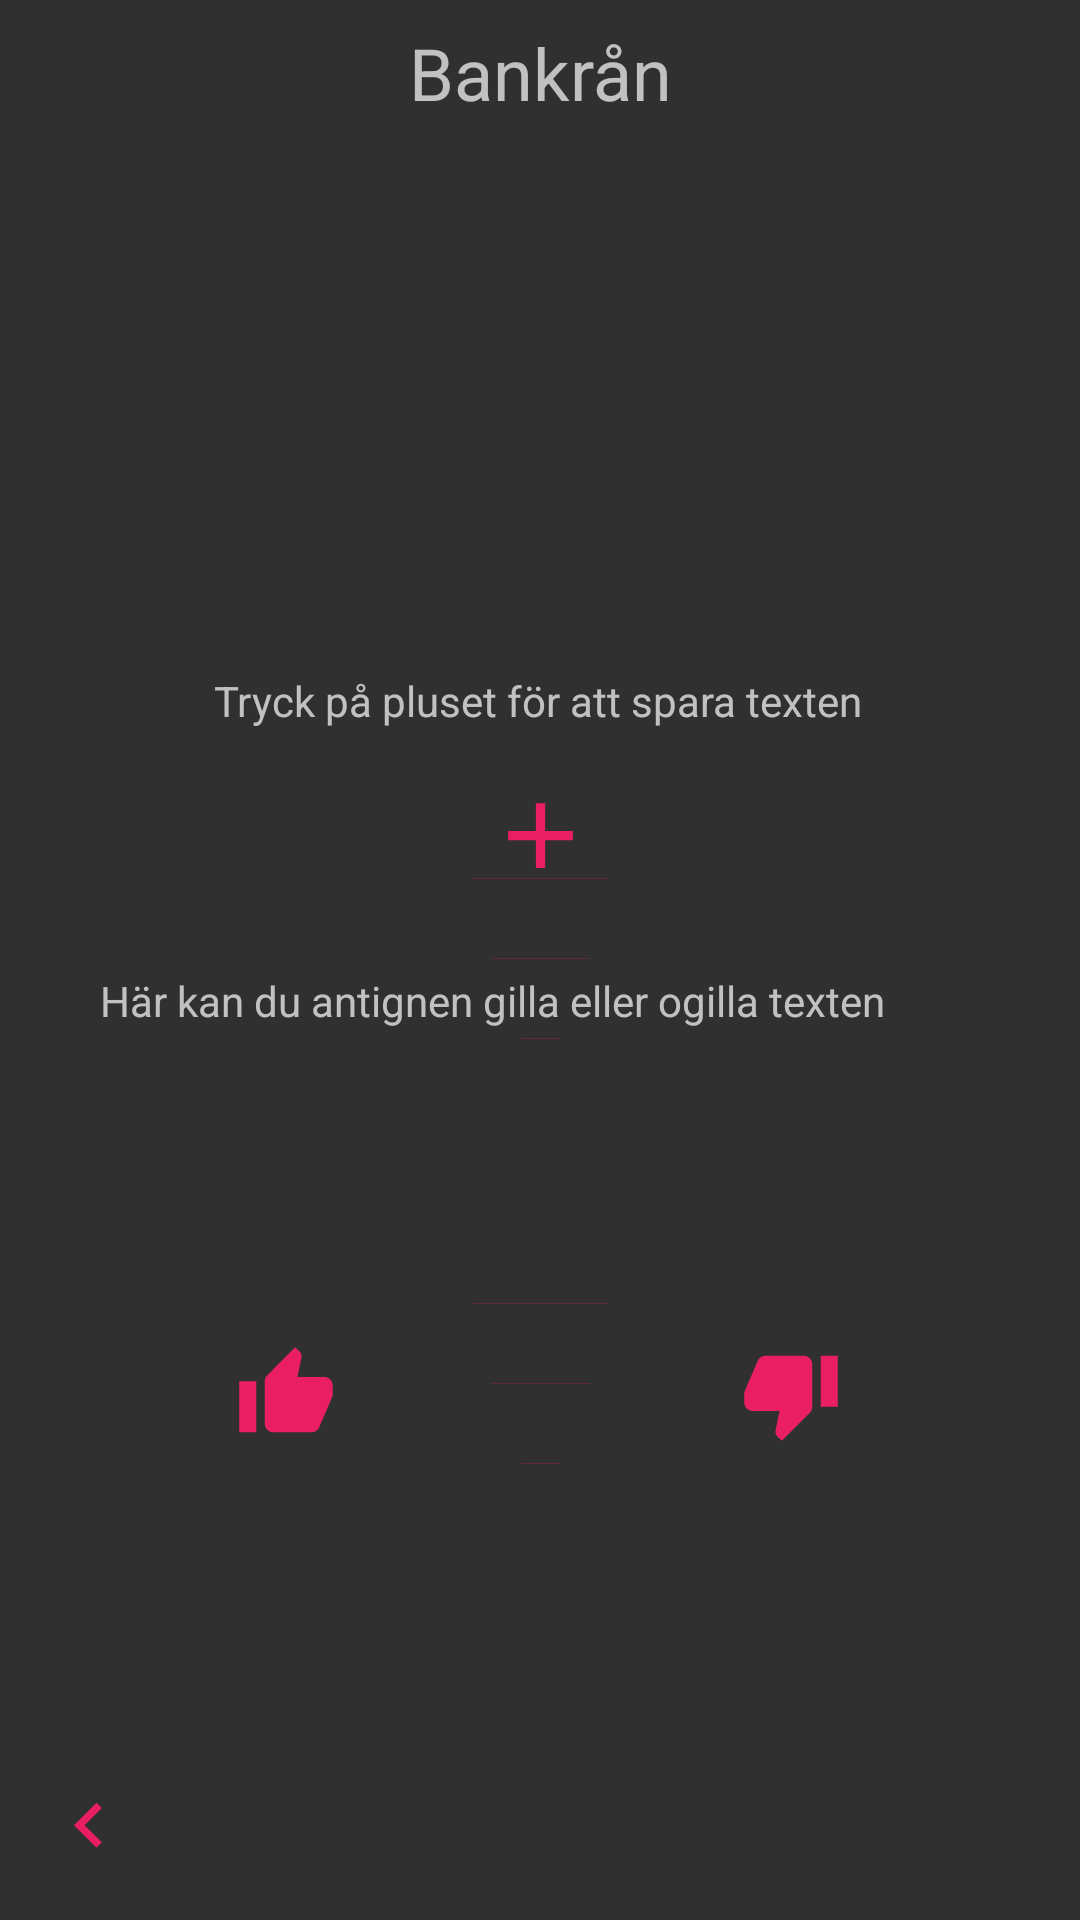

Icons on this 1080 × 1920 Android screen, each with its box as [x1=x1, y1=y1, x2=x2, y2=y2]:
keyboard arrow left: [x1=74, y1=1803, x2=102, y2=1848]
thumb down: [x1=744, y1=1355, x2=838, y2=1441]
thumb up: [x1=239, y1=1347, x2=333, y2=1433]
